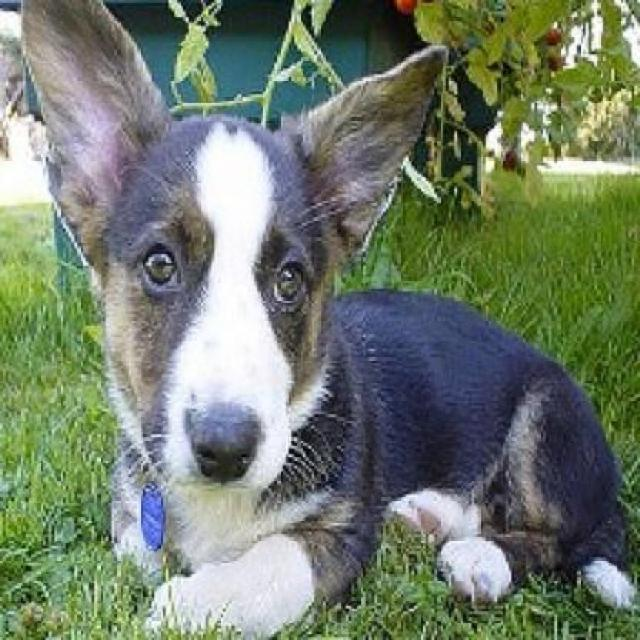Dog: (20, 3, 637, 639)
